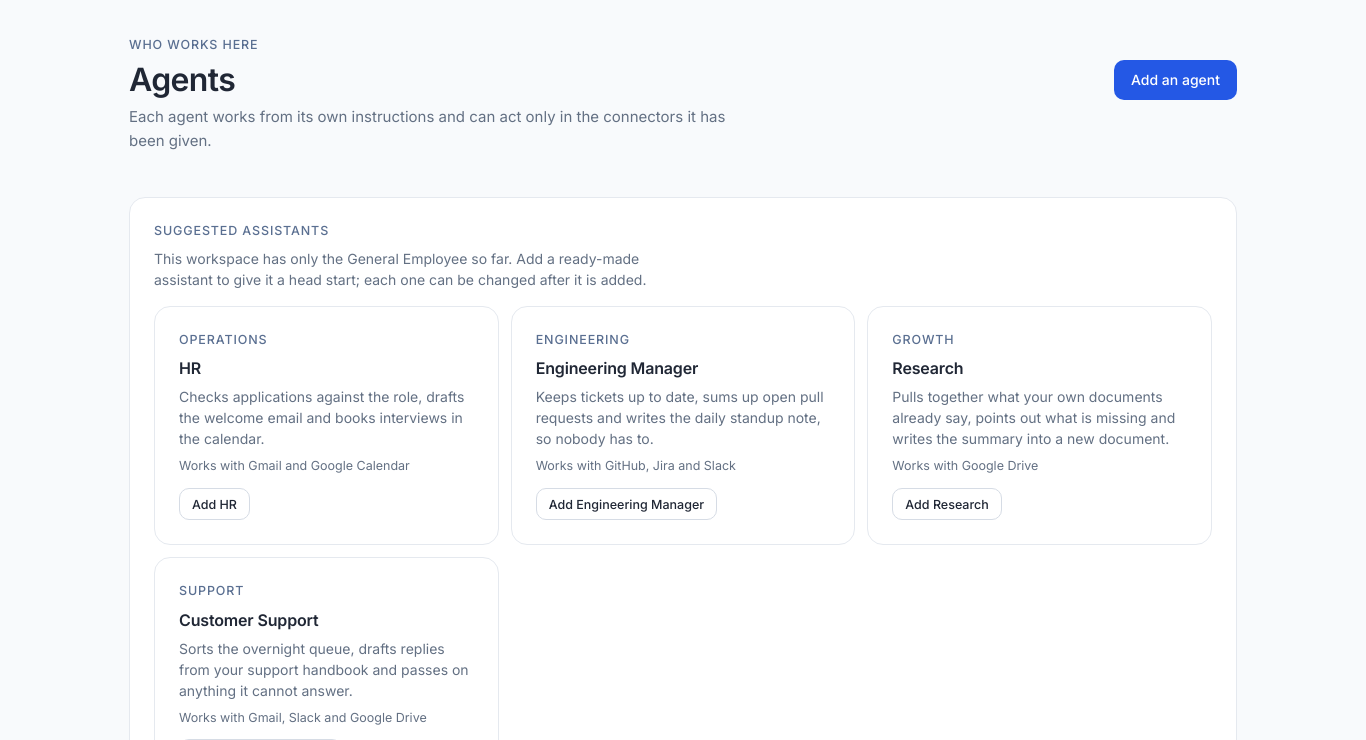
Scenario: suggested assistants › name the connectors without a link for somebody who cannot open Connectors
Step 1. Click the button with aria-label "Add the HR assistant" → (214, 504), box top-left (179, 488), bottom-right (250, 520)
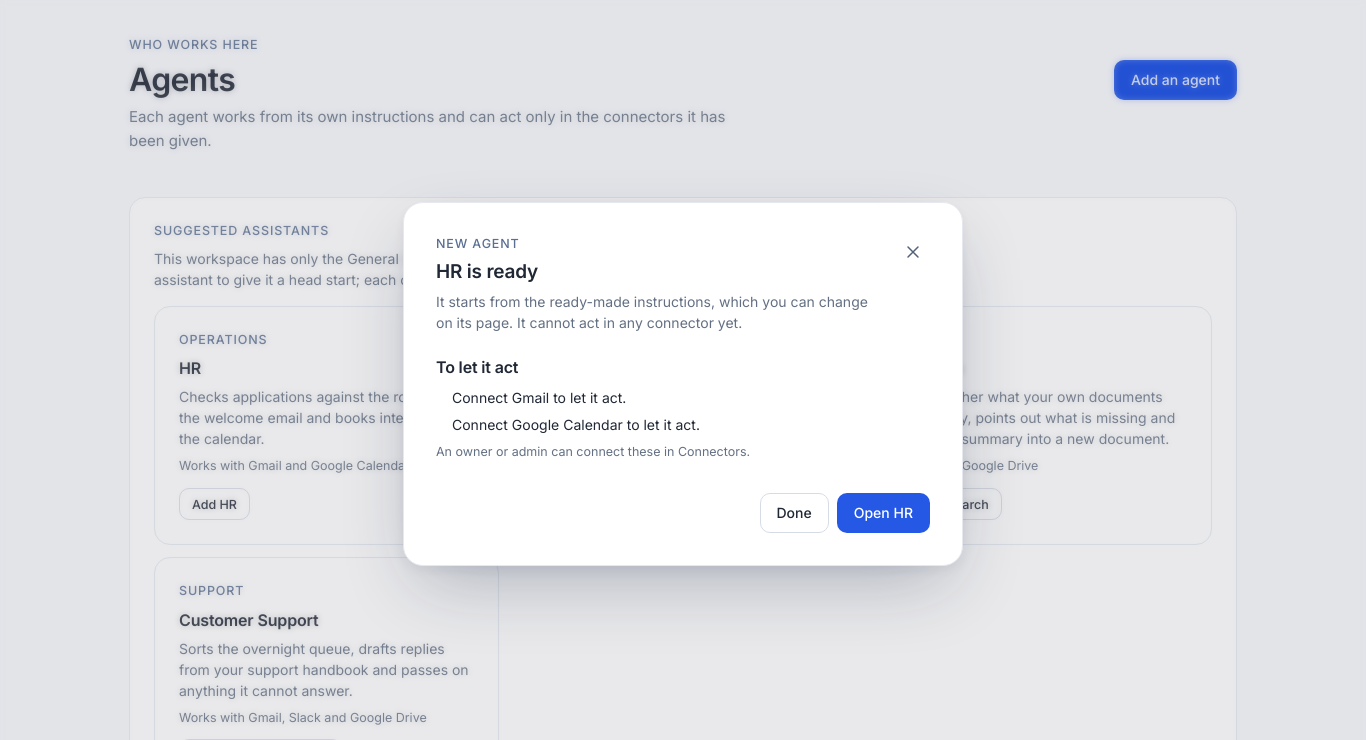
Check: the list item "Connect Gmail to let it act." is shown, box top-left (452, 389), bottom-right (626, 406)
